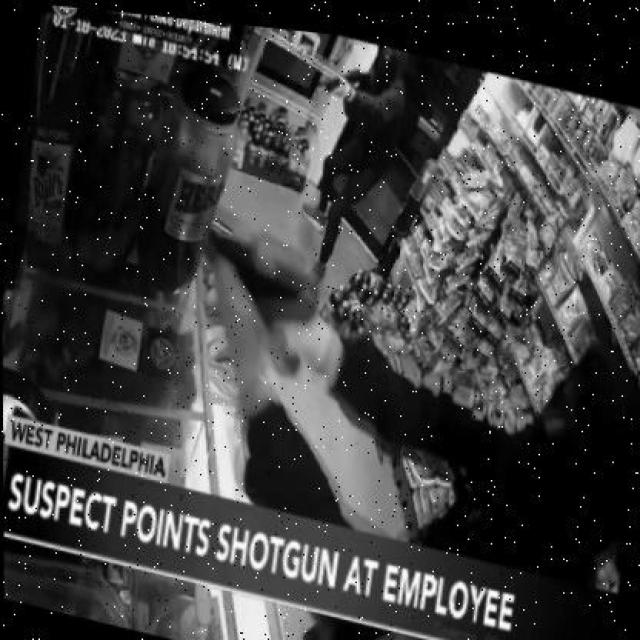weapon: (208, 217, 323, 380), (302, 69, 382, 94)
